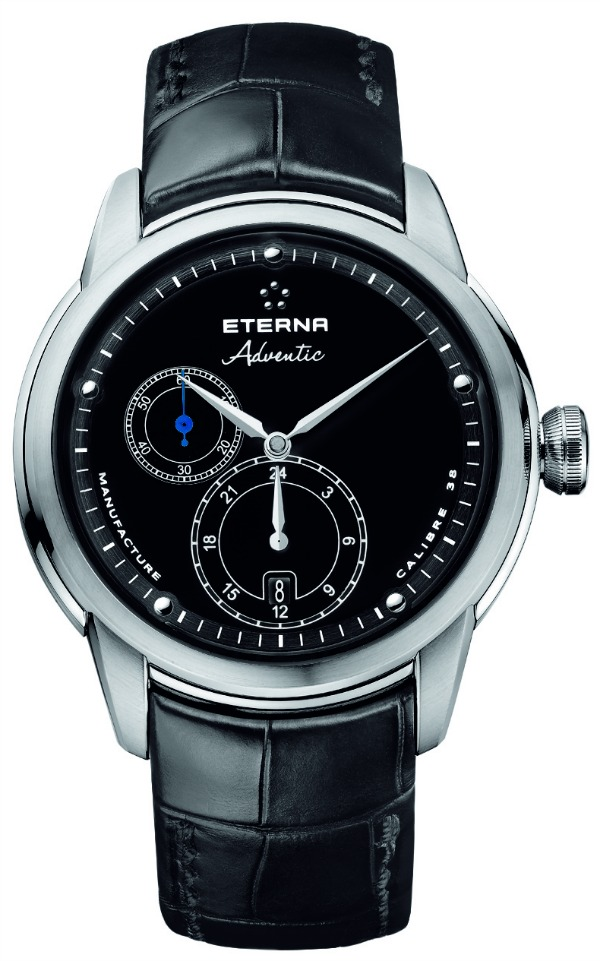clock: (52, 225, 502, 662)
